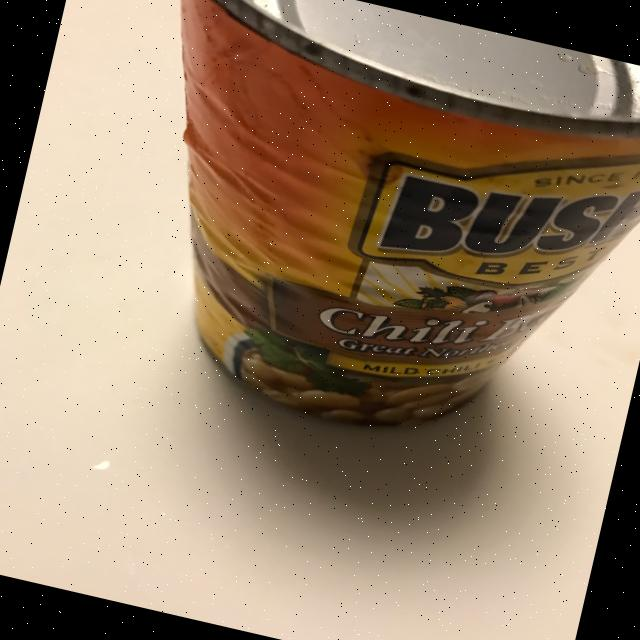metal: (84, 0, 640, 486)
